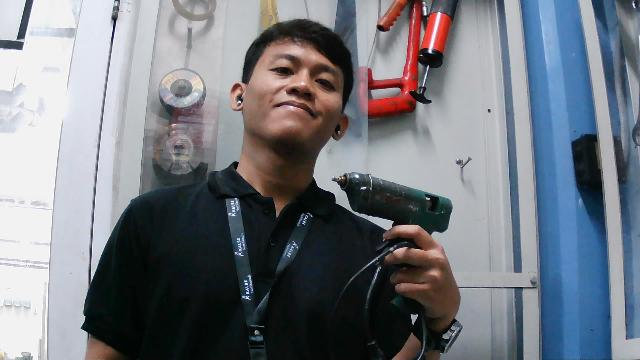gun_lem: (325, 158, 459, 296)
